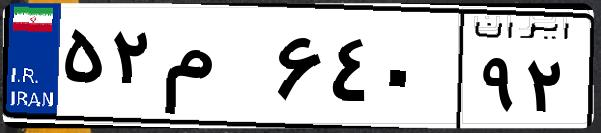0: (385, 28, 445, 110)
2: (525, 38, 570, 115), (110, 28, 158, 98)
4: (330, 28, 385, 110)
5: (57, 26, 110, 100)
6: (270, 28, 330, 110)
9: (475, 38, 525, 113)
م: (158, 20, 270, 120)
